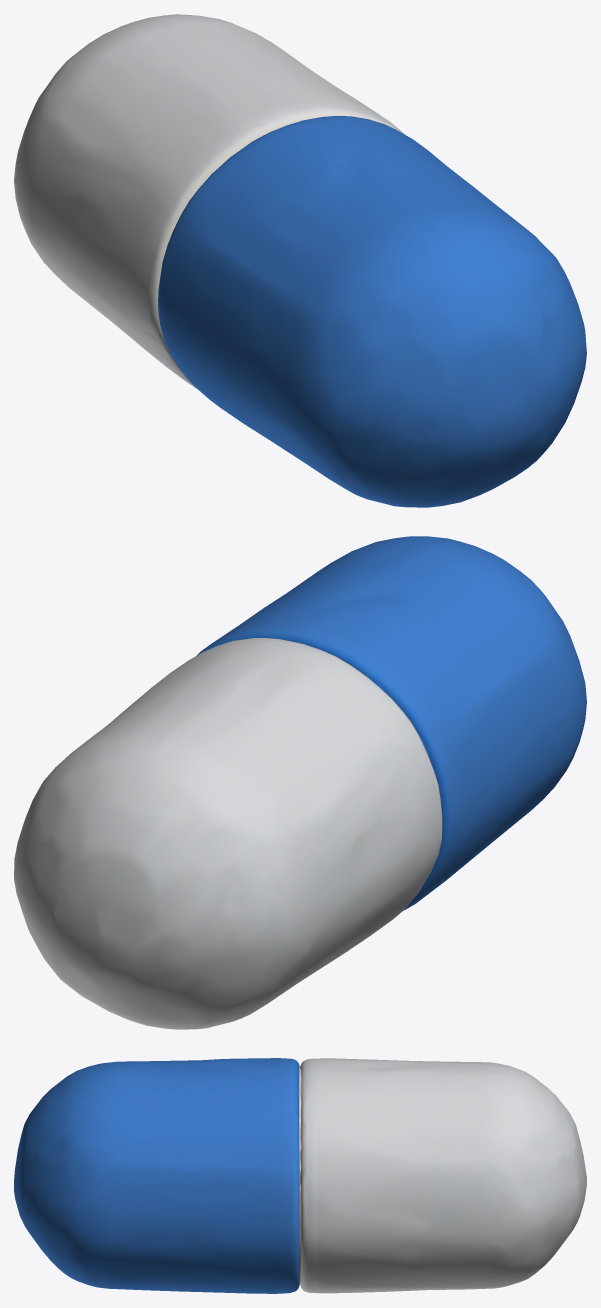
Rendered from bluePill.glb.
3 renders of one model, top to bottom at view 1: azimuth 30°, elevation 25°; view 2: azimuth 150°, elevation 25°; view 3: azimuth 270°, elevation 25°, orthographic. The views are drawn at different scales.
Visible parts, largest first — view 1: tripo_node_0b83b6b1-756f-465e-9d13-e86d0fcc9fe8; view 2: tripo_node_0b83b6b1-756f-465e-9d13-e86d0fcc9fe8; view 3: tripo_node_0b83b6b1-756f-465e-9d13-e86d0fcc9fe8.
Part boxes in pixels (x1,y1,x2,y2): tripo_node_0b83b6b1-756f-465e-9d13-e86d0fcc9fe8: [14, 14, 586, 507]; tripo_node_0b83b6b1-756f-465e-9d13-e86d0fcc9fe8: [14, 536, 586, 1029]; tripo_node_0b83b6b1-756f-465e-9d13-e86d0fcc9fe8: [14, 1058, 586, 1293].
Size of the model in its own units: 0.1477 by 0.1407 by 0.343.
1 material, 1 textured.
